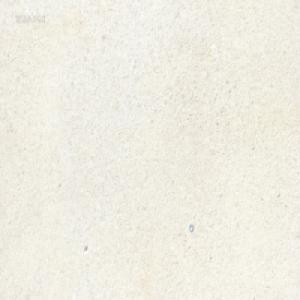Washer: (189, 222, 194, 232)
